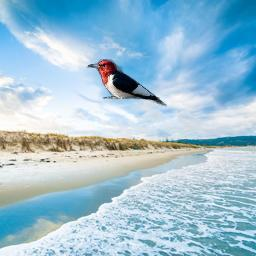Woodpecker: (86, 59, 167, 107)
